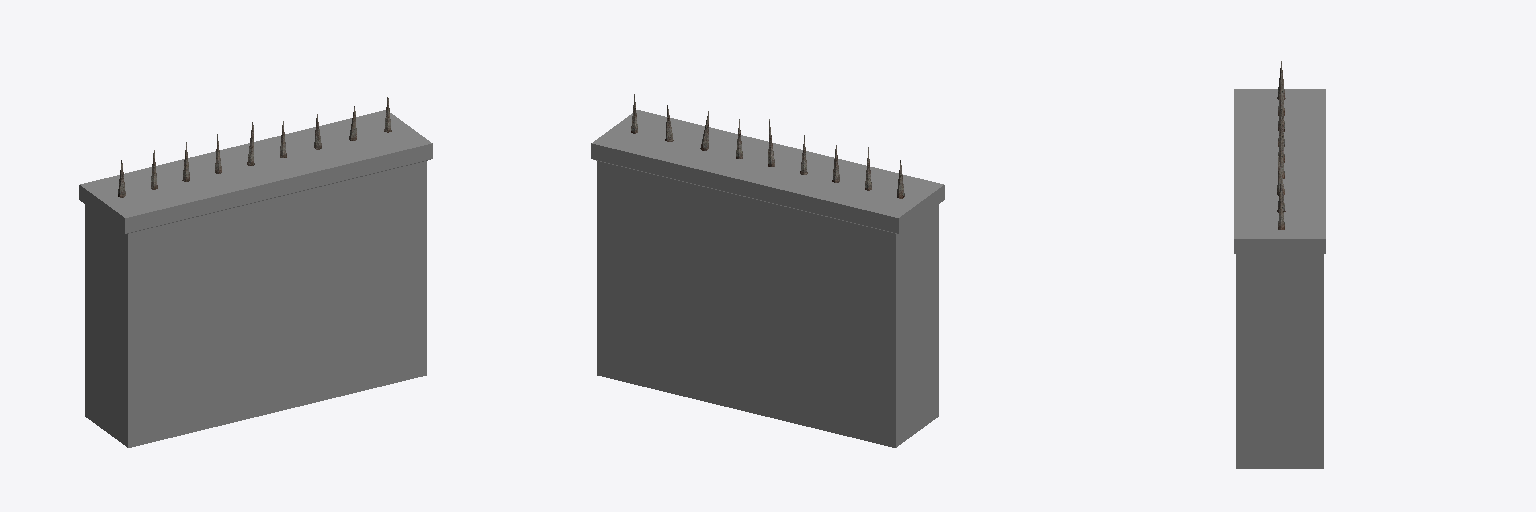
The picture shows the model from 3 angles: view 1: azimuth 30°, elevation 25°; view 2: azimuth 150°, elevation 25°; view 3: azimuth 270°, elevation 25°; orthographic projection.
Parts seen in each view (by area): view 1: Box005; view 2: Box005; view 3: Box005.
Boxes of the visible parts, box(x1,y1,x2,y2) form: Box005: box(79, 110, 432, 447); Box005: box(591, 110, 944, 447); Box005: box(1234, 89, 1325, 468).
Size of the model in its own units: 5.23 by 4.55 by 1.36.
Materials: 2 (1 with a texture image).